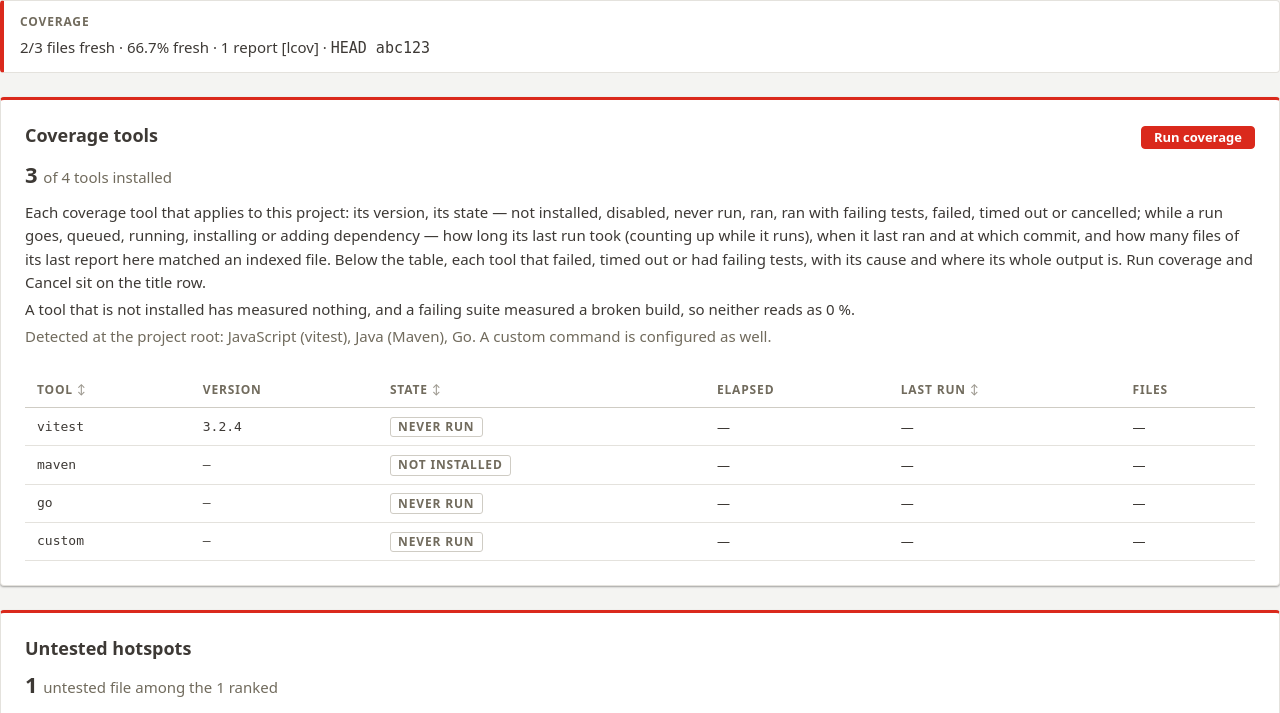
it: Run coverage on the Coverage page (S-739) › starts nothing and records nothing when the dialog is cancelled
Click the button "Run coverage".
click(1198, 137)  # box [1141,126,1255,149]
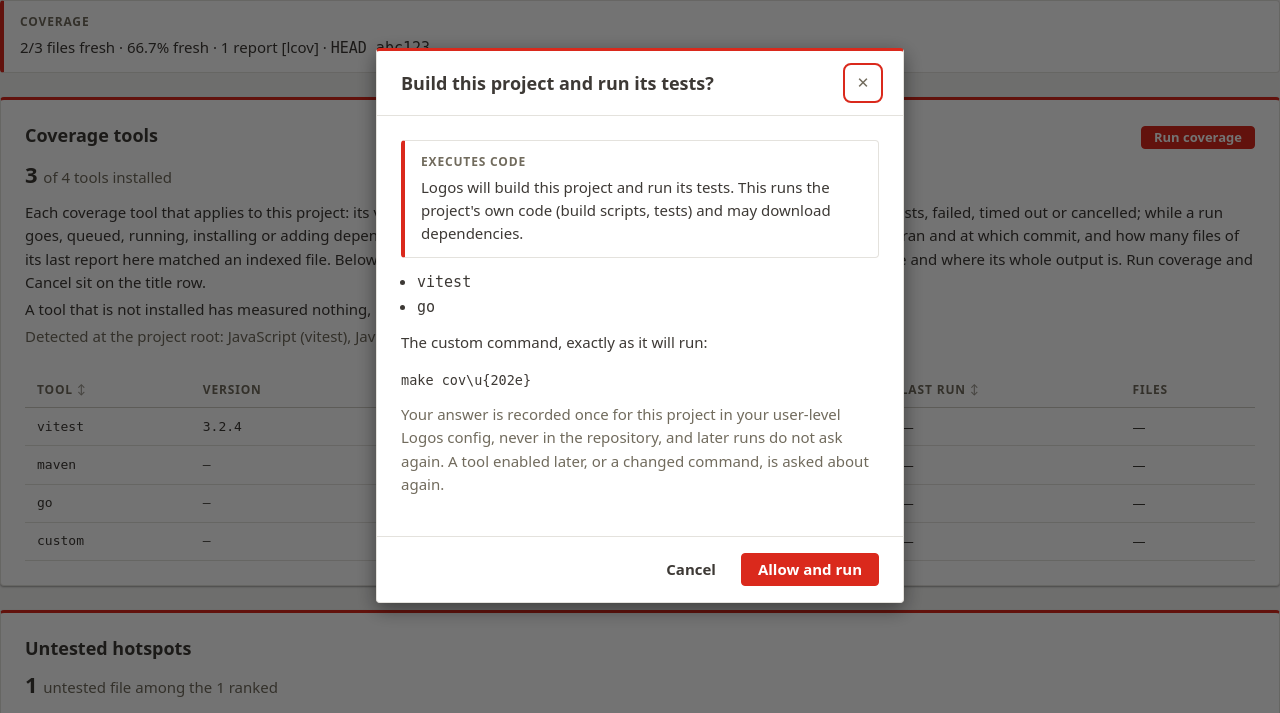
Click the button "Cancel".
click(691, 570)  # box [649,553,733,586]
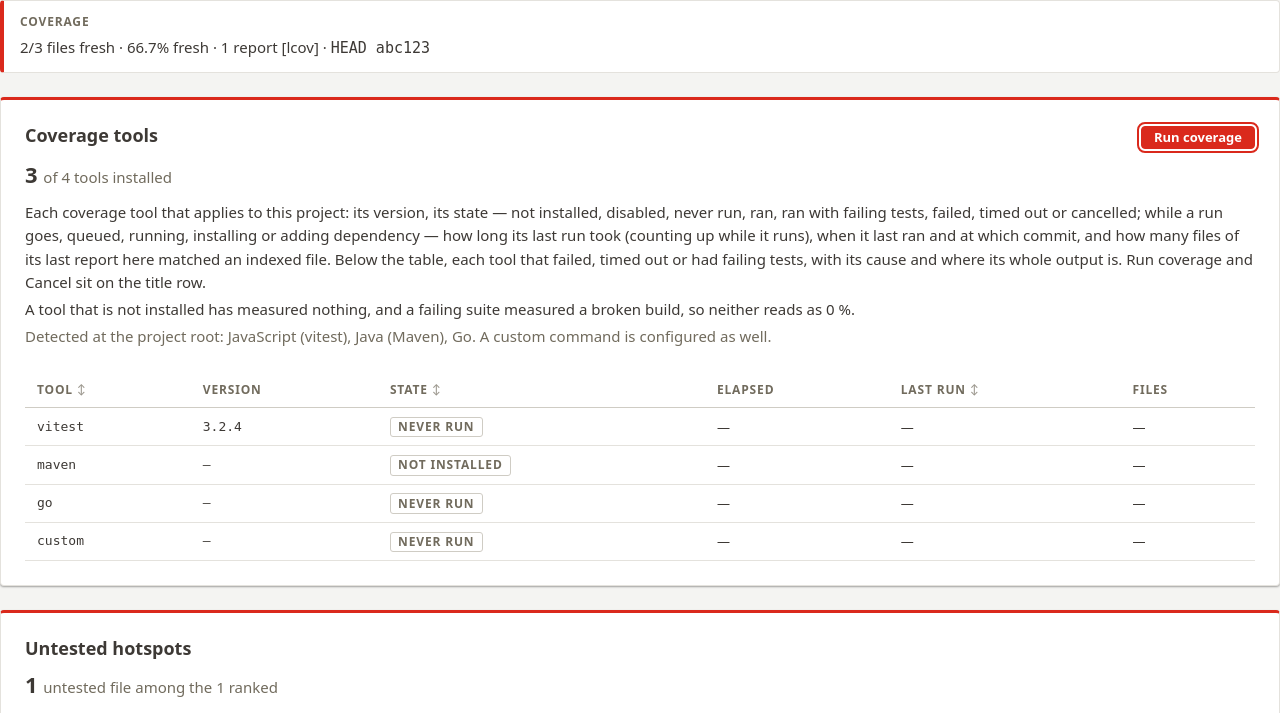
Expected: the dialog is gone
